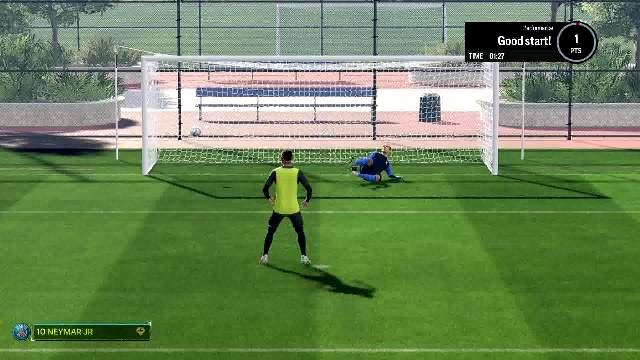bottom-left: (148, 118, 262, 174)
bottom-right: (376, 118, 488, 174)
center-down: (260, 120, 374, 178)
center-up: (260, 60, 376, 122)
football: (188, 123, 206, 141)
goalkeeper: (328, 117, 398, 185)
player: (254, 158, 314, 268)
top-left: (145, 60, 261, 116)
top-right: (376, 61, 490, 118)
